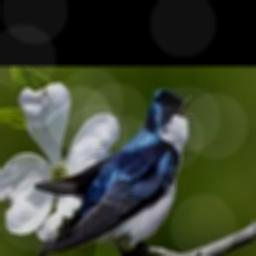Swallow: (34, 88, 196, 256)
